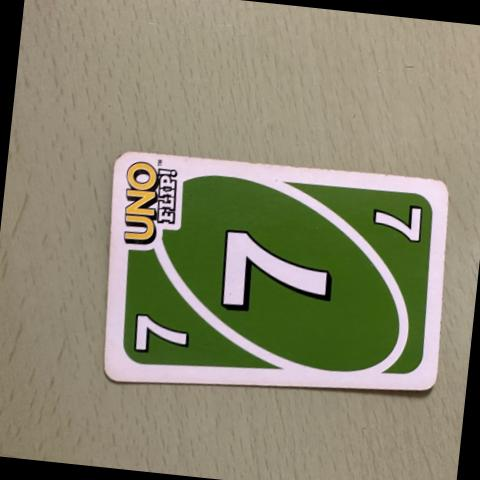lgreen-7: (114, 284, 207, 371)
